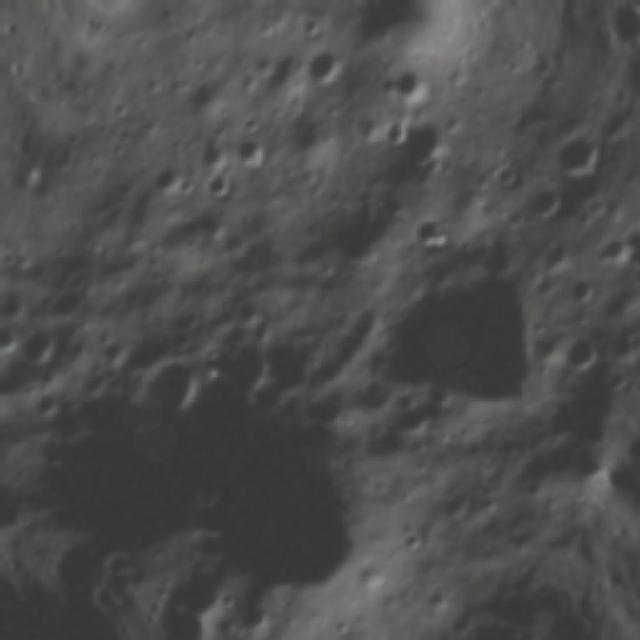crater: (361, 236, 577, 442), (132, 342, 219, 431), (542, 113, 626, 199), (208, 332, 288, 420), (387, 108, 459, 186), (380, 389, 448, 453), (428, 600, 534, 640), (6, 315, 68, 382), (297, 38, 355, 97), (36, 273, 92, 333), (225, 120, 280, 178), (378, 58, 434, 114), (516, 178, 572, 234), (396, 208, 455, 261), (579, 222, 633, 278), (558, 438, 610, 492), (558, 328, 610, 378), (192, 128, 242, 180), (20, 378, 72, 428), (235, 591, 288, 640), (140, 152, 188, 202), (347, 553, 395, 601), (372, 109, 417, 160), (0, 278, 40, 332), (72, 361, 120, 405), (438, 480, 482, 528), (100, 542, 143, 584), (560, 269, 602, 311), (615, 214, 640, 281), (470, 482, 508, 526), (487, 155, 527, 196), (198, 164, 238, 204), (296, 5, 333, 44), (392, 522, 428, 558), (137, 68, 169, 105), (236, 106, 270, 140), (0, 315, 25, 356), (173, 172, 202, 203), (0, 353, 6, 399)
